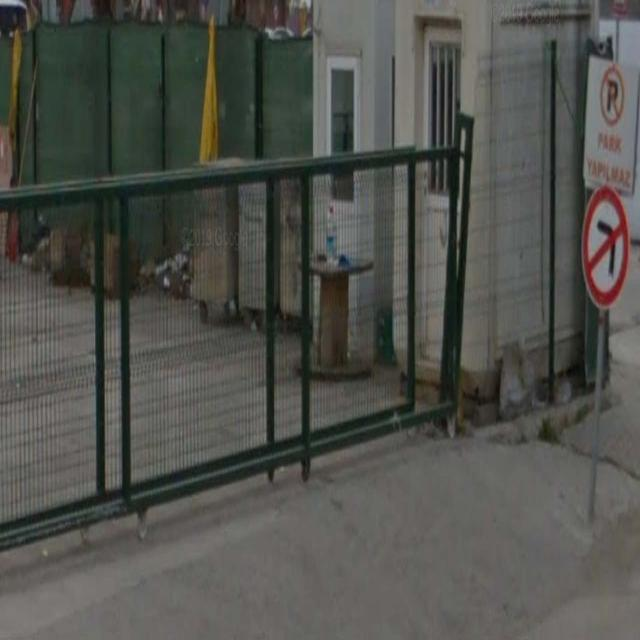soladonulmez: (582, 186, 629, 309)
